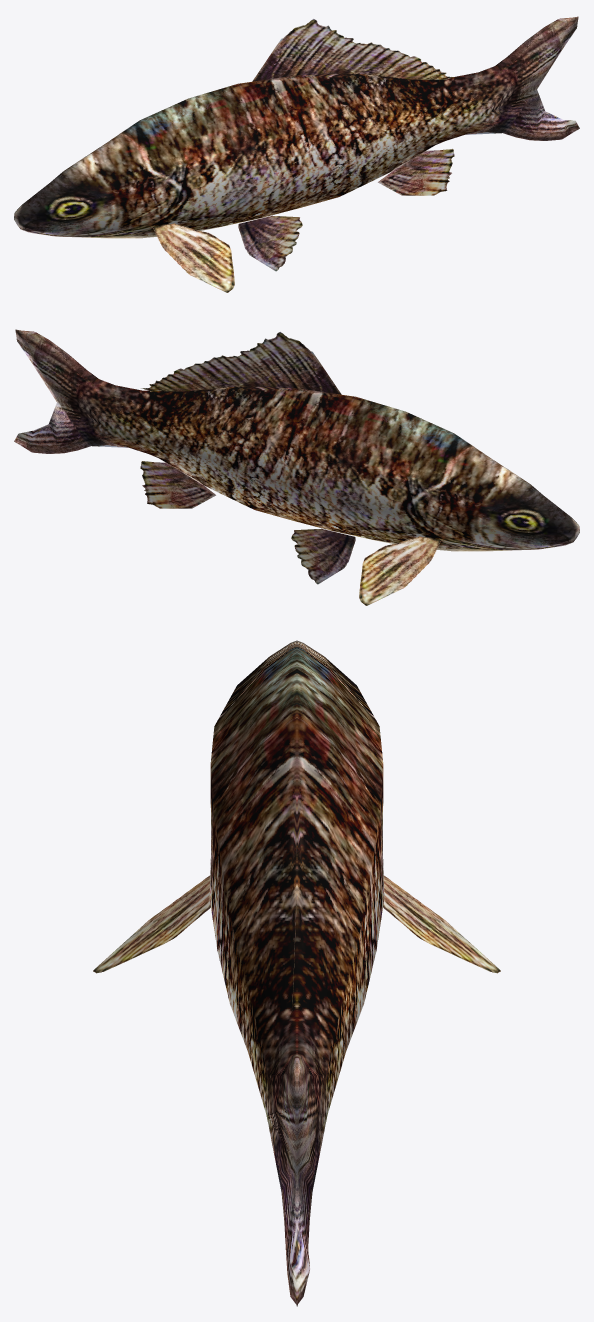
The model's file is kaoyu.FBX.
3 views of the same model, one above another, from view 1: azimuth 30°, elevation 25°; view 2: azimuth 150°, elevation 25°; view 3: azimuth 270°, elevation 25° (orthographic). The views are drawn at different scales.
Visible parts, largest first — view 1: Object01; view 2: Object01; view 3: Object01.
Part boxes in pixels (x1=…): Object01: x1=14, y1=16, x2=579, y2=292; Object01: x1=14, y1=329, x2=579, y2=605; Object01: x1=93, y1=640, x2=500, y2=1306.
Size of the model in its own units: 40.35 by 17.63 by 13.66.
